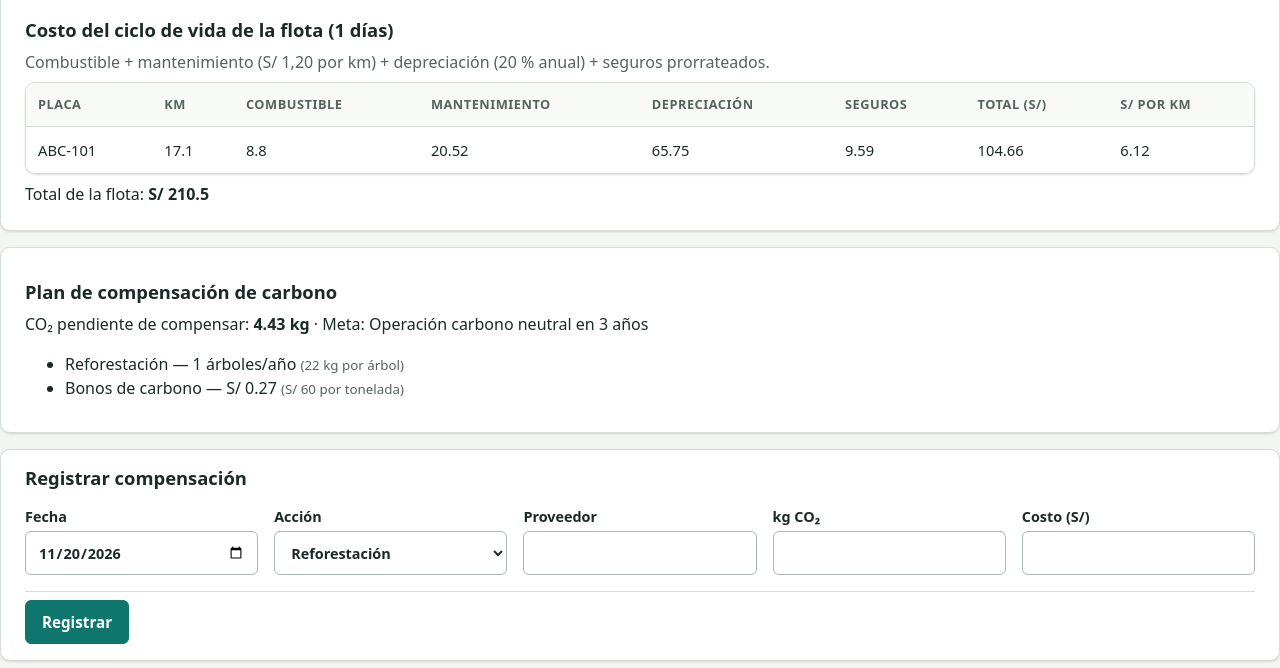
it: Sostenibilidad › muestra el error al registrar
The image size is (1280, 668).
(page scrolled)
Check: the form "Registrar compensación" is shown, box [0,449,1279,661]
Type "5" into the number field labelled "kg CO₂" at (889, 554), box [773,532,1006,576]
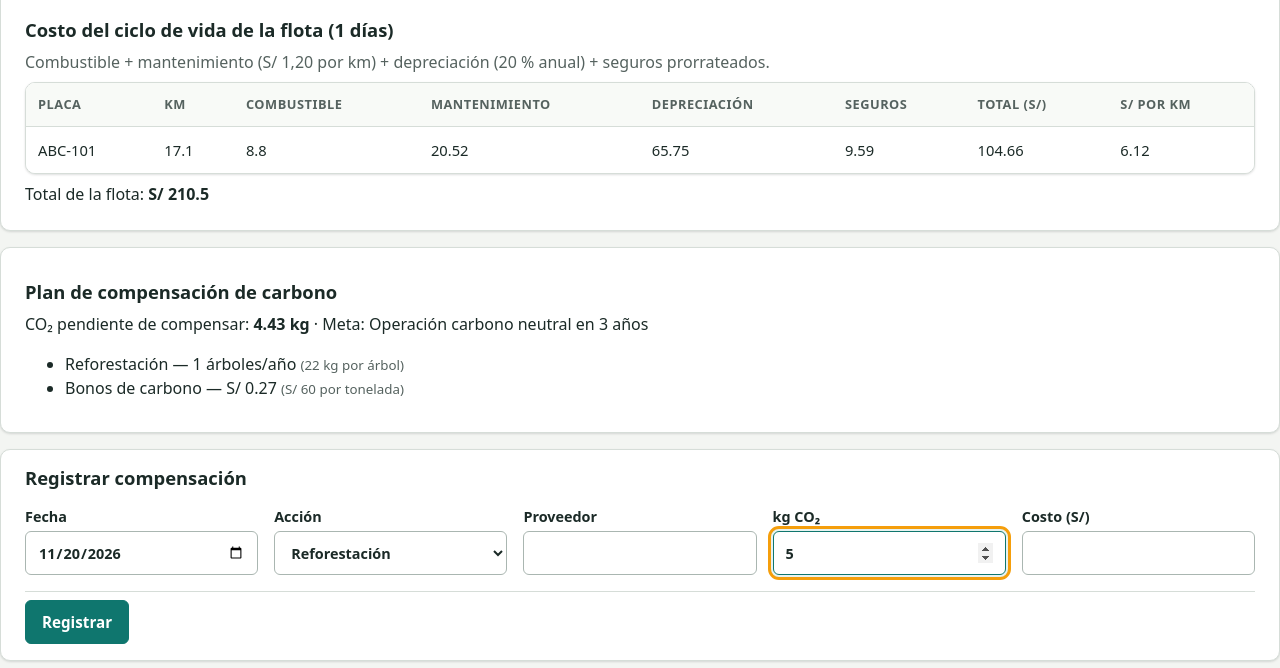
Click the button "Registrar" at (77, 622), box [25,600,129,644]
(page scrolled)
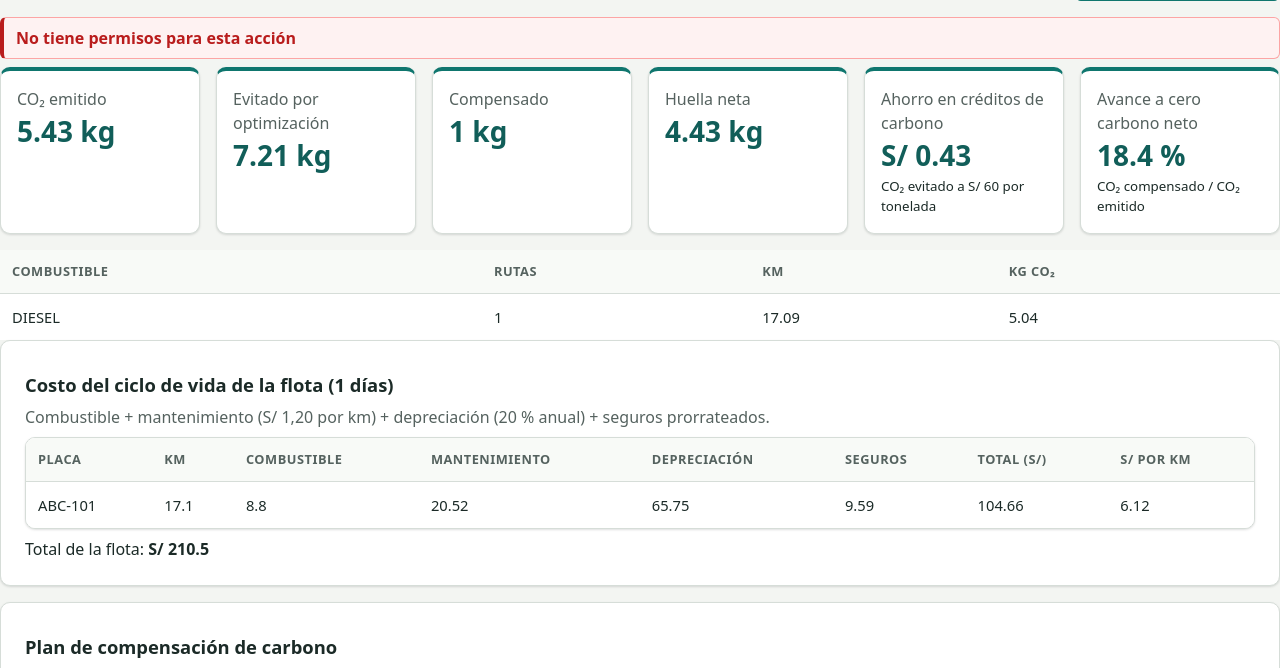
Check: the message reads "No tiene permisos para esta acción", box [16,27,296,49]
